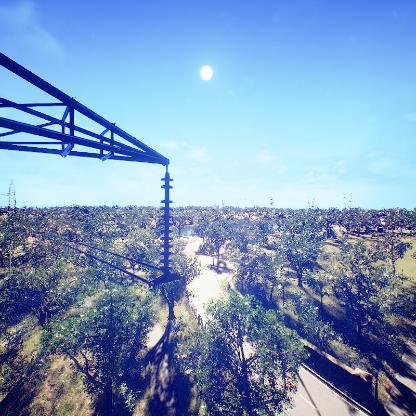insulator: (157, 173, 176, 272)
